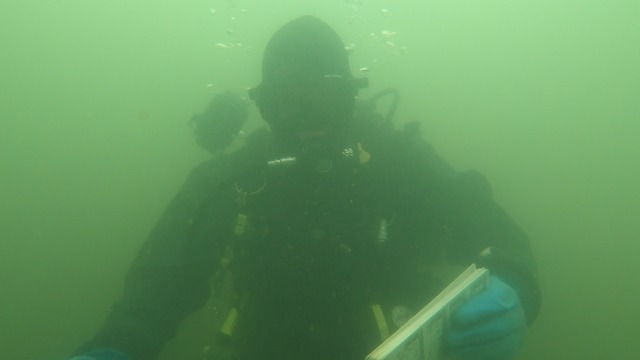Diver: (47, 5, 559, 354)
Head: (226, 11, 403, 189)
